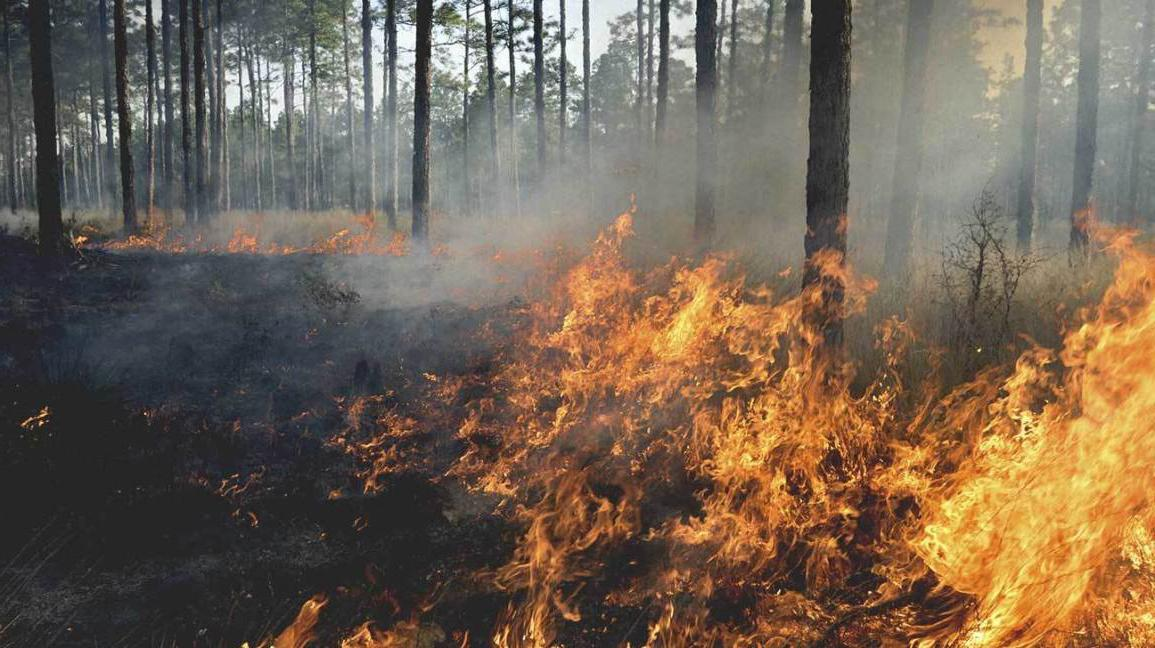fire: (292, 226, 1150, 648), (105, 213, 456, 263)
